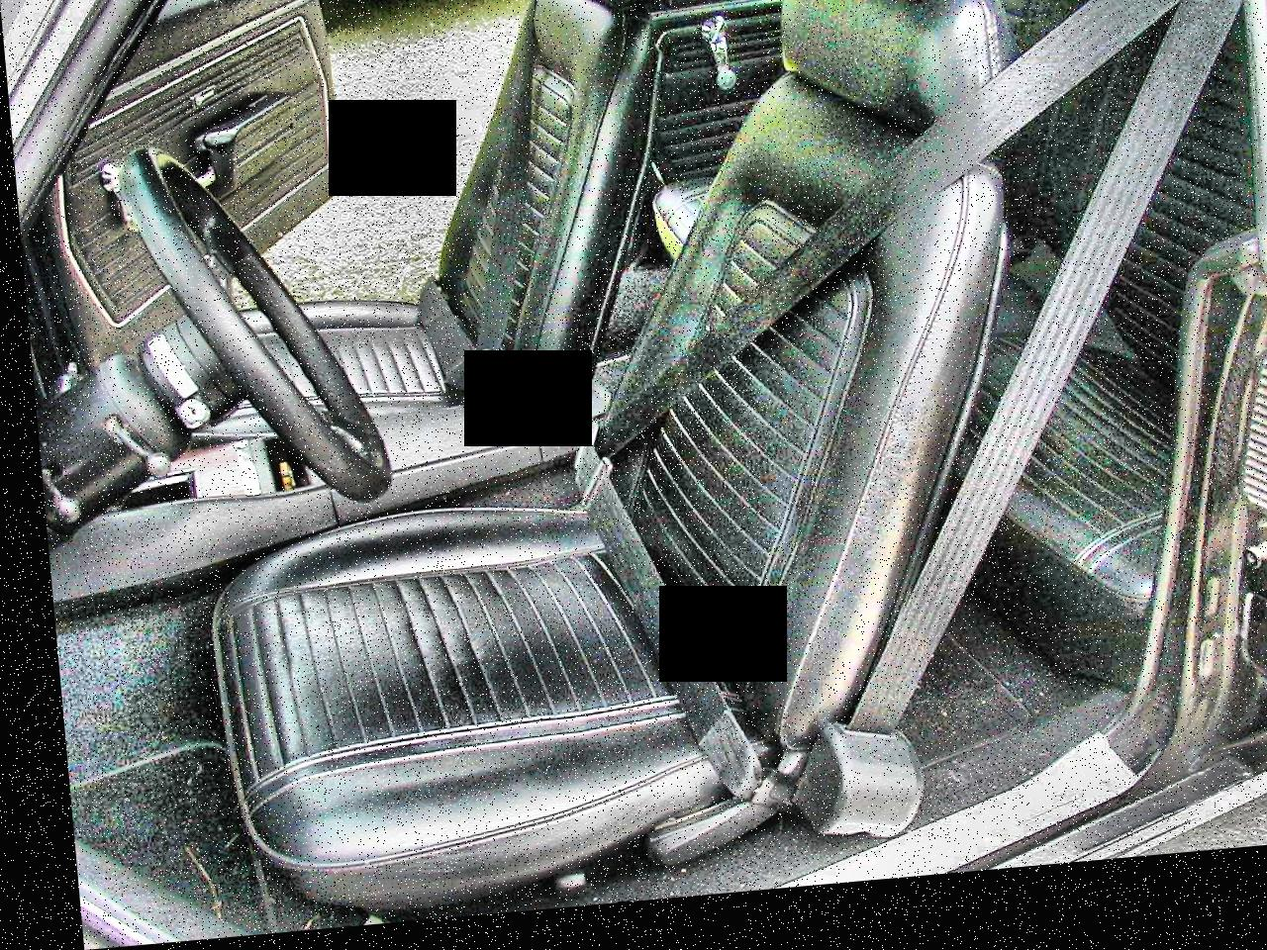seatbelt: (519, 0, 1267, 712), (368, 24, 608, 417)
